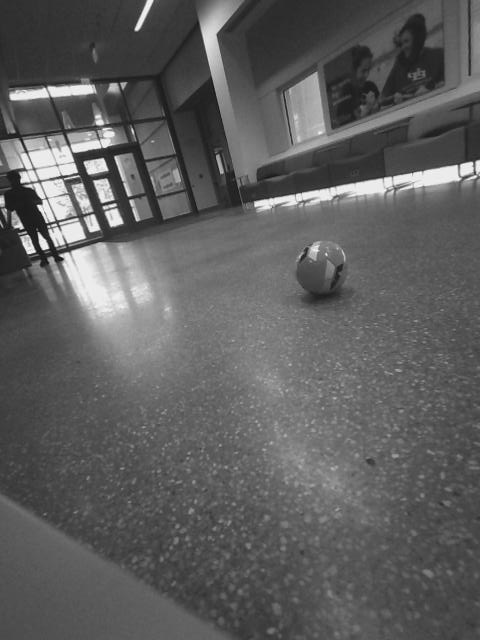ball: (290, 236, 357, 303)
